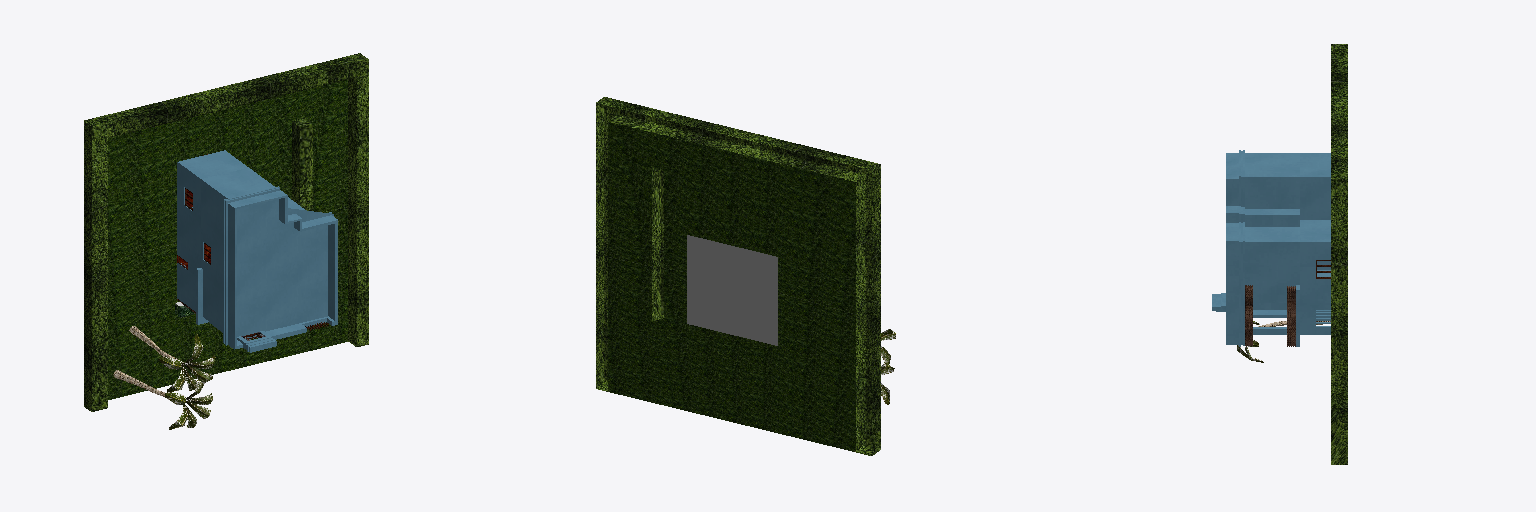
3 views of the same model, side by side, from view 1: azimuth 30°, elevation 25°; view 2: azimuth 150°, elevation 25°; view 3: azimuth 270°, elevation 25° (orthographic).
Visible parts, largest first — view 1: Plane.003_Plane.006, Cube.101_Cube.204, Cube_Cube.001, Cube.103_Cube.217, Cube.002_Cube.003; view 2: Plane.003_Plane.006; view 3: Cube_Cube.001, Plane.003_Plane.006, Cube.002_Cube.003, Cube.103_Cube.217, Cube.101_Cube.204, Cube.099_Cube.195.
Boxes of the visible parts, x1,y1,x2,y2 form: Plane.003_Plane.006: [84, 53, 368, 411]; Cube.101_Cube.204: [223, 186, 333, 345]; Cube_Cube.001: [201, 168, 304, 330]; Cube.103_Cube.217: [228, 190, 337, 349]; Cube.002_Cube.003: [177, 150, 292, 311]; Plane.003_Plane.006: [596, 97, 880, 455]; Cube_Cube.001: [1245, 153, 1299, 334]; Plane.003_Plane.006: [1331, 44, 1347, 464]; Cube.002_Cube.003: [1300, 153, 1330, 334]; Cube.103_Cube.217: [1226, 153, 1238, 344]; Cube.101_Cube.204: [1239, 150, 1244, 346]; Cube.099_Cube.195: [1287, 286, 1295, 346].
Size of the model in its own units: 9.94 by 9.9 by 4.25.
15 materials, 11 textured.